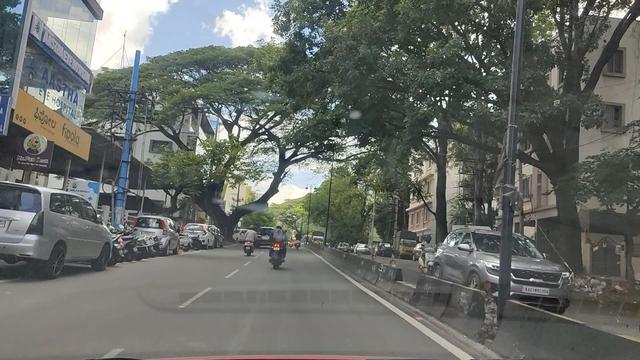LMV: (8, 179, 112, 275), (269, 224, 290, 270)
